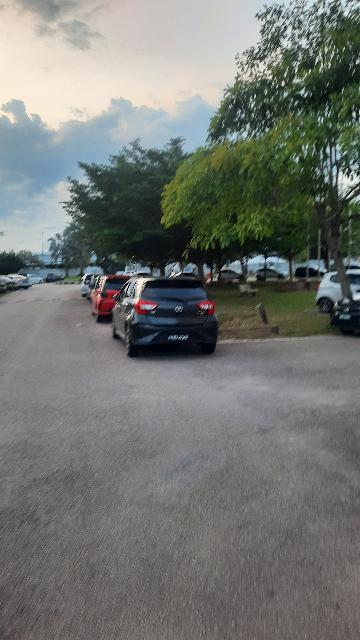License_Plate: (166, 335, 197, 344)
car: (108, 275, 220, 358)
